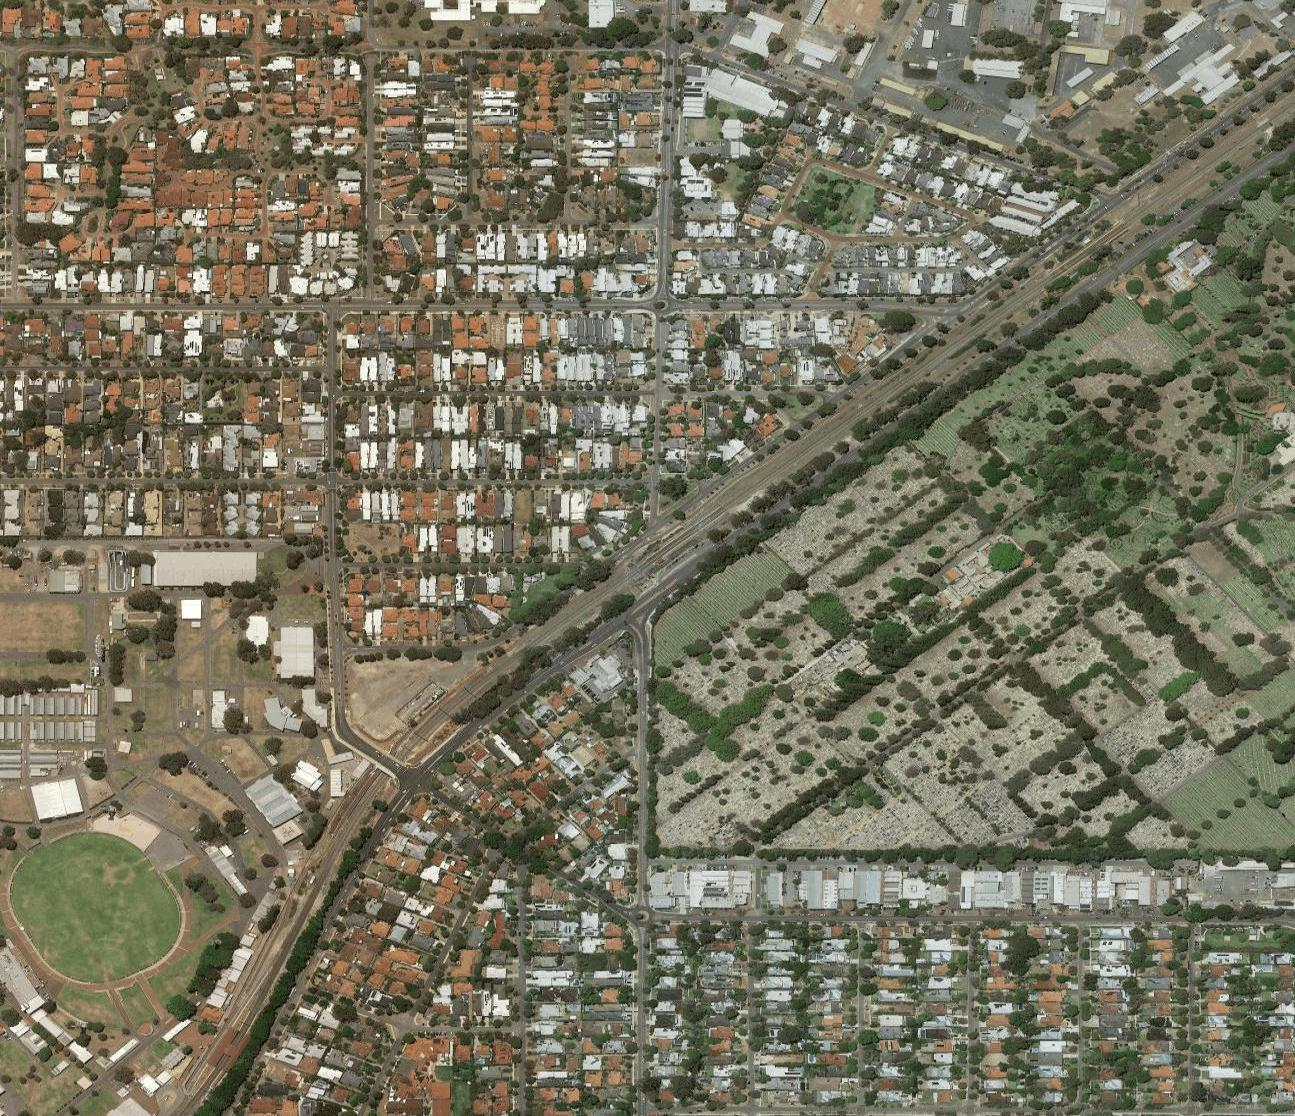industrial: (734, 1, 1253, 107), (649, 854, 1166, 918)
train_station: (597, 503, 704, 603)
